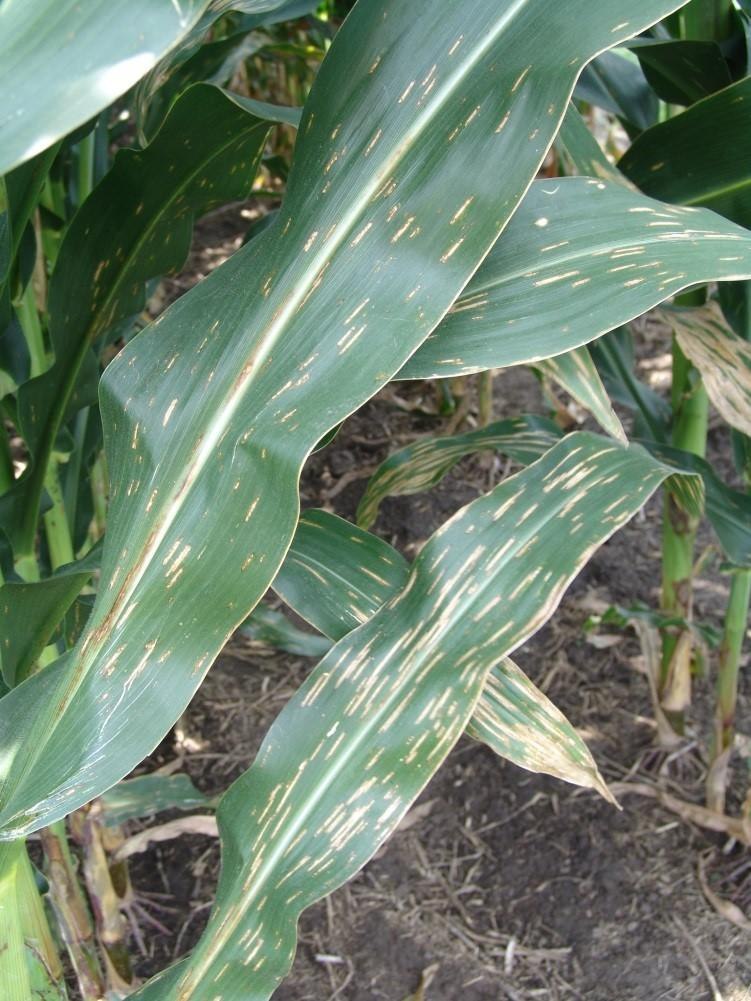Corn_Blight: (105, 42, 619, 447), (330, 475, 685, 890), (47, 495, 230, 738), (641, 170, 751, 451), (210, 776, 320, 985)
